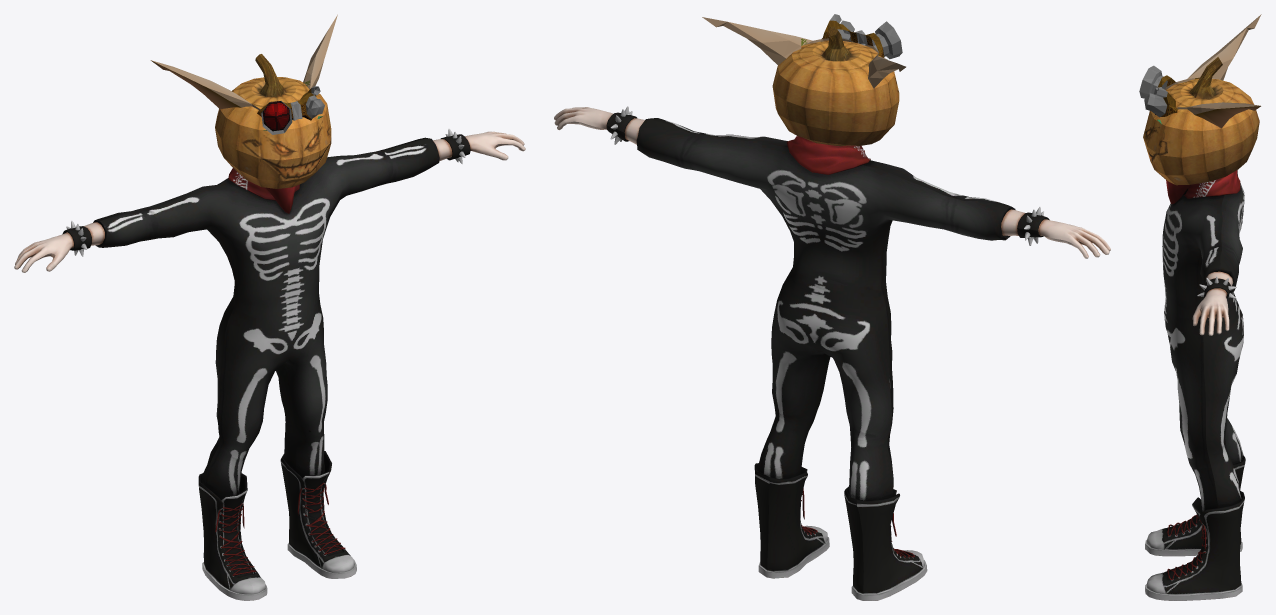
Rendered from eichar-lod0.glb.
3 renders of one model, left to right at view 1: azimuth 30°, elevation 25°; view 2: azimuth 150°, elevation 25°; view 3: azimuth 270°, elevation 25°, orthographic. The views are drawn at different scales.
Visible parts, largest first — view 1: SkeletonCrew, Object_1, eichar-lod0; view 2: SkeletonCrew, Object_1, eichar-lod0; view 3: SkeletonCrew, Object_1, eichar-lod0.
Boxes of the visible parts, box(x1,y1,x2,y2) form: SkeletonCrew: box(14, 128, 525, 600); Object_1: box(215, 54, 331, 188); eichar-lod0: box(150, 14, 337, 134); SkeletonCrew: box(554, 106, 1110, 600); Object_1: box(772, 26, 899, 146); eichar-lod0: box(702, 14, 905, 88); SkeletonCrew: box(1145, 170, 1245, 600); Object_1: box(1143, 57, 1259, 185); eichar-lod0: box(1139, 14, 1261, 128).
Bounding box in the file's own units: 2.89 × 2.76 × 0.5996.
Materials: 10 (10 with a texture image).
